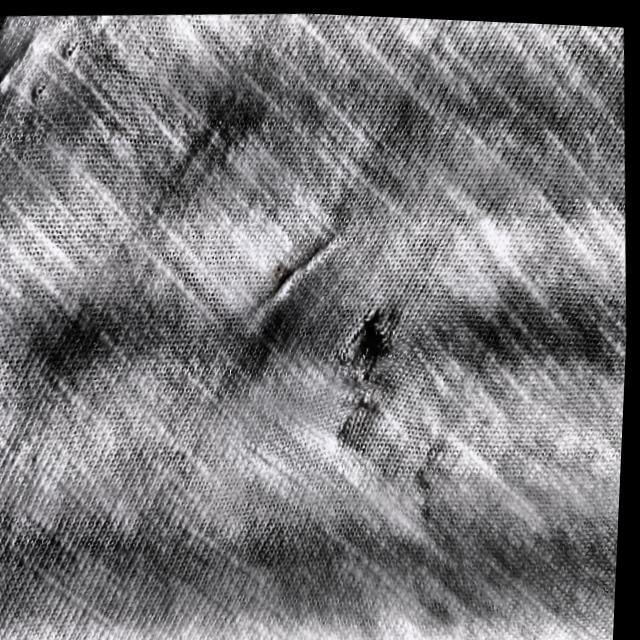Hole: (330, 291, 409, 374)
